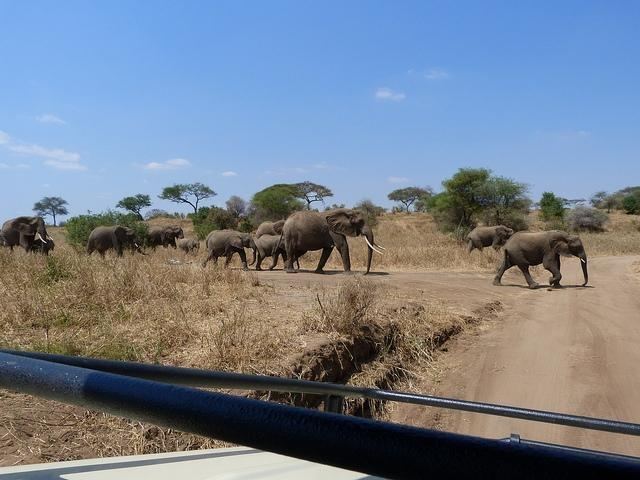car: (4, 350, 637, 470)
